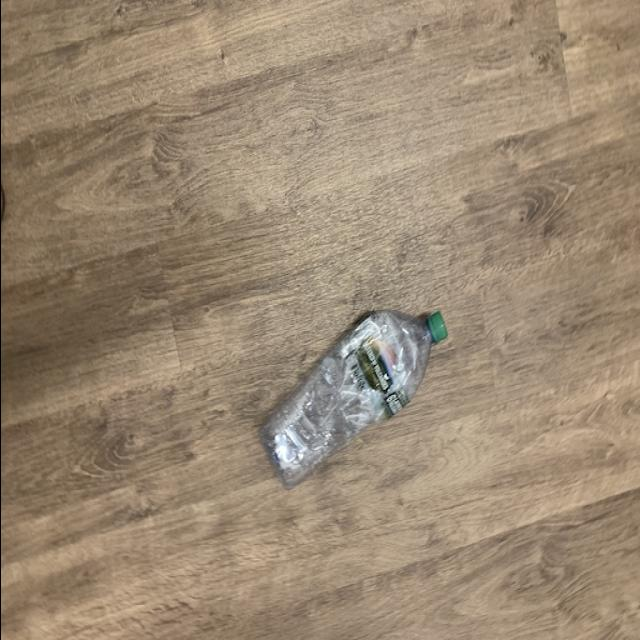PET: (259, 299, 447, 491)
